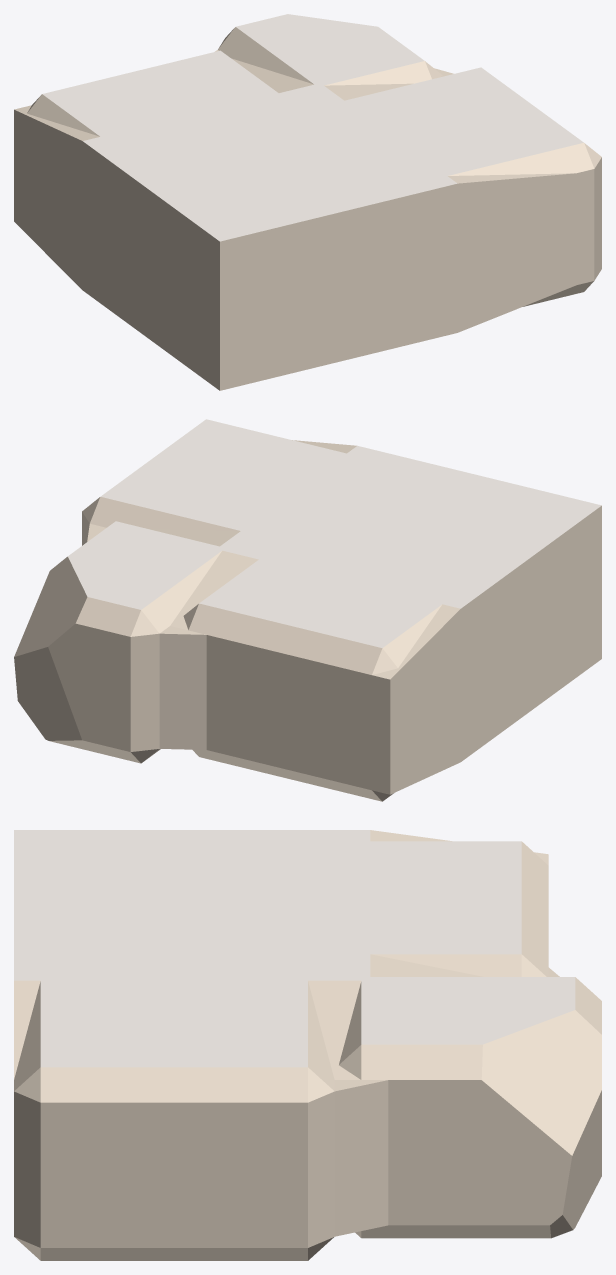
File: opengameart-modular-temple-3d-models-2_20.glb
3 renders of one model, top to bottom at view 1: azimuth 30°, elevation 25°; view 2: azimuth 150°, elevation 25°; view 3: azimuth 270°, elevation 25°, orthographic. The views are drawn at different scales.
Parts seen in each view (by area): view 1: object1; view 2: object1; view 3: object1.
Part boxes in pixels (left/top/right/bottom): object1: left=14, top=14, right=601, bottom=390; object1: left=14, top=419, right=601, bottom=801; object1: left=14, top=830, right=601, bottom=1260.
Bounding box in the file's own units: 0.55 × 0.2 × 0.55.
